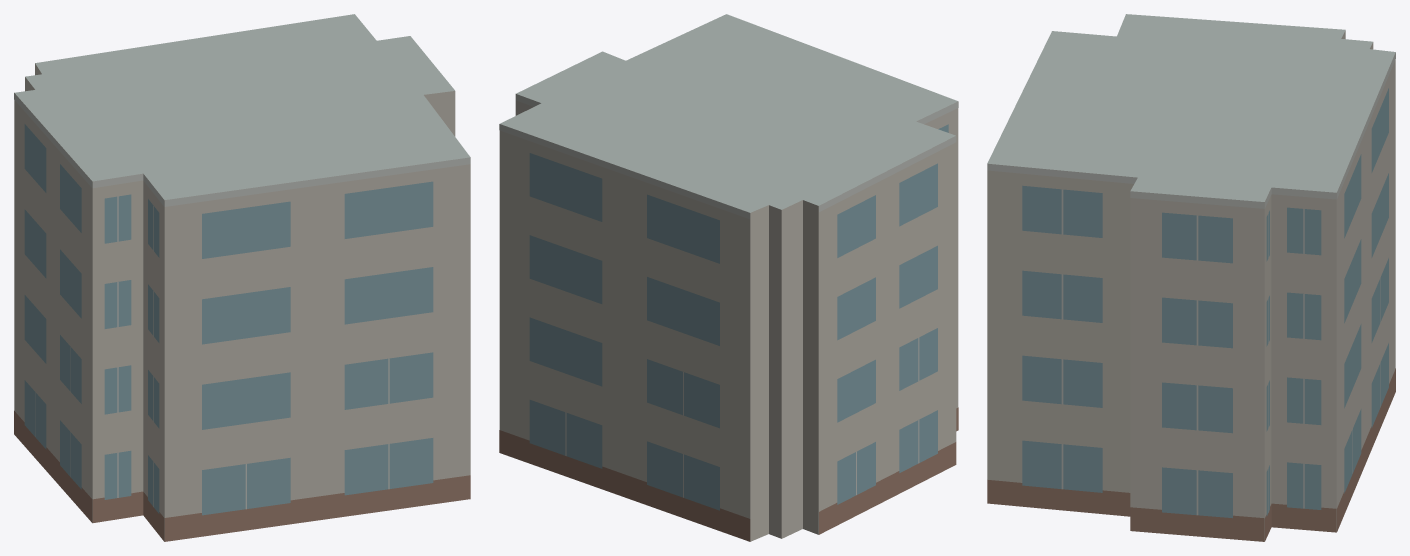
File: survey-upis-32992040.glb
The picture shows the model from 3 angles, left to right: view 1: azimuth 30°, elevation 25°; view 2: azimuth 150°, elevation 25°; view 3: azimuth 270°, elevation 25°; orthographic projection. The views are drawn at different scales.
Visible parts, largest first — view 1: survey-upis-32992040.tmp; view 2: survey-upis-32992040.tmp; view 3: survey-upis-32992040.tmp.
Boxes of the visible parts, <box> form: survey-upis-32992040.tmp: <box>14,14,470,541</box>; survey-upis-32992040.tmp: <box>499,14,958,541</box>; survey-upis-32992040.tmp: <box>987,14,1395,541</box>.
Bounding box in the file's own units: 14.5 × 12.2 × 13.31.
